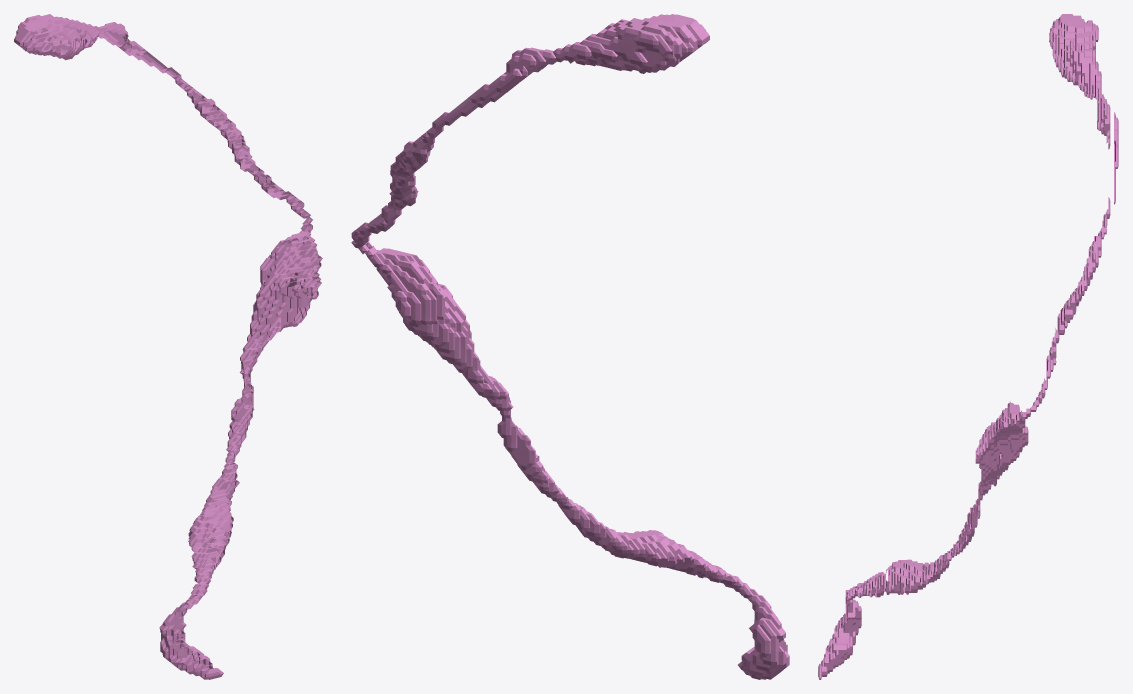
File: SVV_ASKR.gltf
The picture shows the model from 3 angles, left to right: view 1: azimuth 30°, elevation 25°; view 2: azimuth 150°, elevation 25°; view 3: azimuth 270°, elevation 25°; orthographic projection. The views are drawn at different scales.
Parts seen in each view (by area): view 1: ASKR; view 2: ASKR; view 3: ASKR.
Part boxes in pixels (left/top/right/bottom): ASKR: left=14, top=14, right=322, bottom=679; ASKR: left=351, top=14, right=789, bottom=679; ASKR: left=818, top=14, right=1118, bottom=679.
Size of the model in its own units: 46620 by 93744 by 40850.
